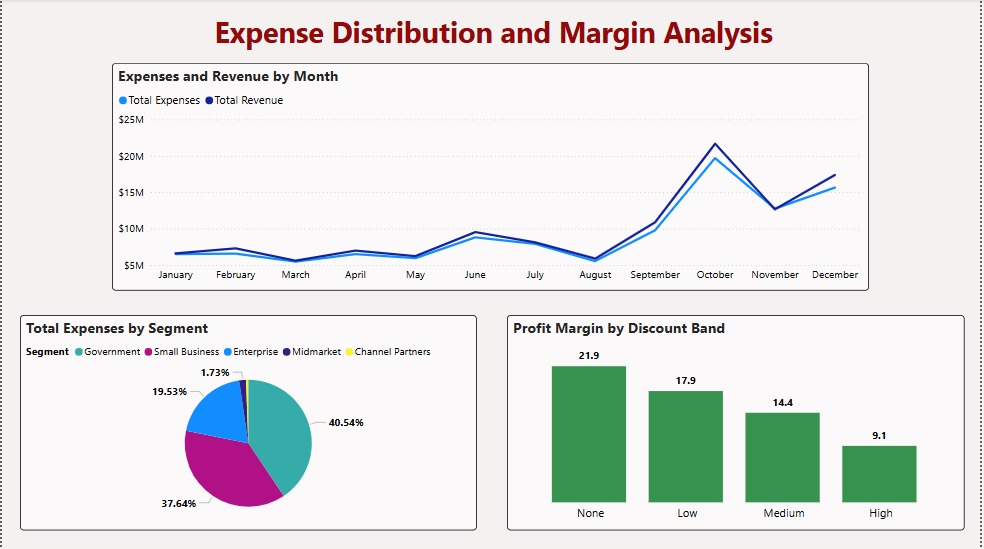

The dashboard page shown, as its layout file describes it:
{"tool":"powerbi","page":{"name":"Page 3","canvas":[1280,720],"ordinal":2},"visuals":[{"type":"lineChart","title":"Expenses and Revenue by  Month","fields":{"Category":["Financials. Month Name "],"Y":["Financials.Total Expenses","Sum(Financials.  Sales )"]},"box":[144,83.5,990.7,298.1],"z":0},{"type":"pieChart","fields":{"Y":["Financials.Total Expenses"],"Category":["Financials.Segment"]},"box":[23,413.3,597.6,282.2],"z":1000},{"type":"columnChart","fields":{"Y":["Financials.Profit Margin"],"Category":["Financials. Discount Band "]},"box":[661,413.3,599,282.2],"z":2000},{"type":"textbox","box":[23,13,1239.8,70.6],"z":3000}]}

Visuals, with their boxes in screenshot pixels (x1, y1, x2, y2), scaled from the page's 1280x720 canvas onto the 984x549 screenshot:
"Expenses and Revenue by  Month" lineChart: l=111, t=64, r=872, b=291
pieChart - Financials.Total Expenses x Financials.Segment: l=18, t=315, r=477, b=530
columnChart - Financials.Profit Margin x Financials. Discount Band : l=508, t=315, r=969, b=530
textbox: l=18, t=10, r=971, b=64
